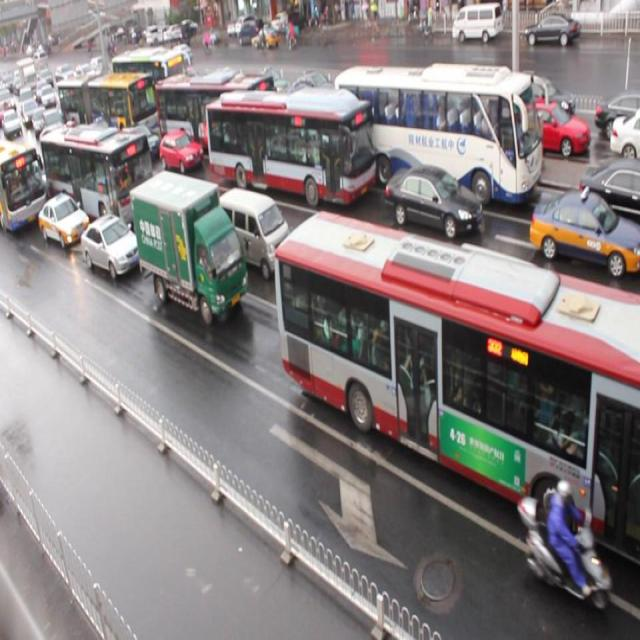bus: (129, 171, 248, 324)
car: (526, 189, 640, 279), (300, 228, 404, 321), (384, 163, 482, 238), (576, 160, 640, 238), (141, 185, 208, 250), (80, 206, 138, 272), (36, 187, 88, 243), (159, 128, 202, 172), (116, 123, 160, 164)
truck: (440, 240, 568, 386), (216, 186, 292, 276)
van: (273, 208, 640, 564), (334, 66, 541, 204), (206, 84, 375, 204), (38, 121, 156, 232), (154, 70, 274, 160), (58, 71, 158, 132), (1, 134, 46, 226)
